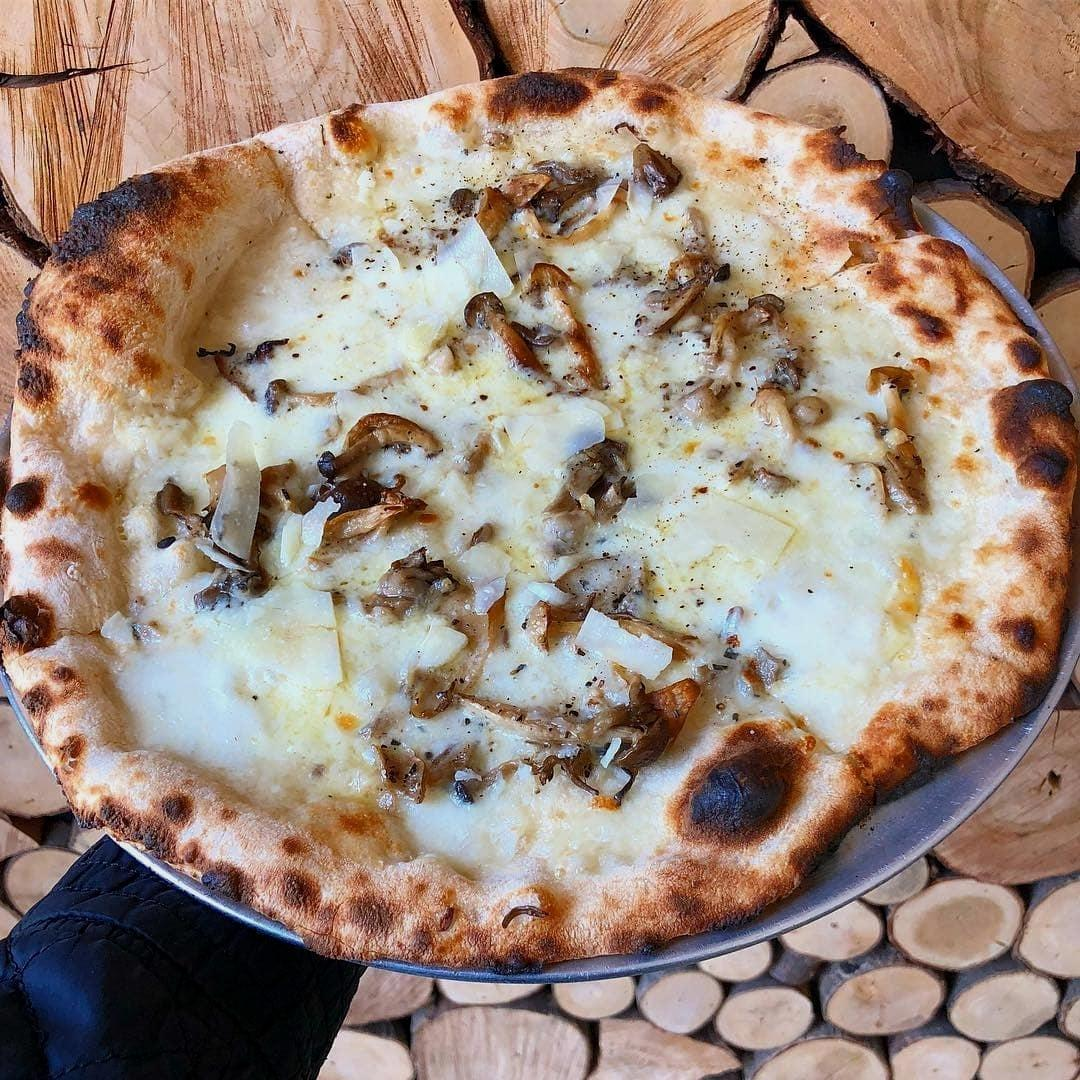Mushroom: (441, 221, 917, 480), (441, 601, 733, 770), (311, 413, 450, 557)
Pizza: (11, 79, 1078, 973)
